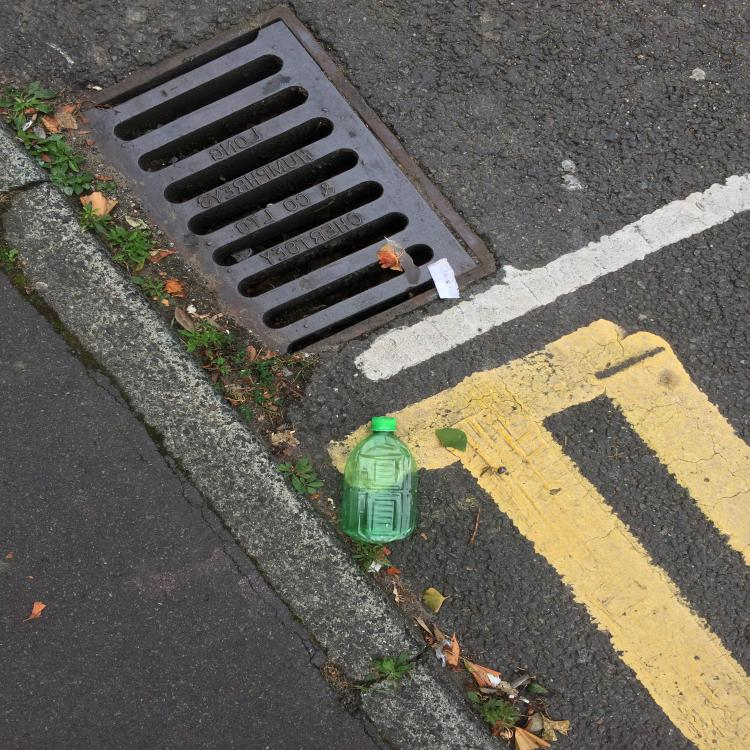Clear plastic bottle: (342, 417, 418, 544)
Normal paper: (428, 258, 459, 299)
